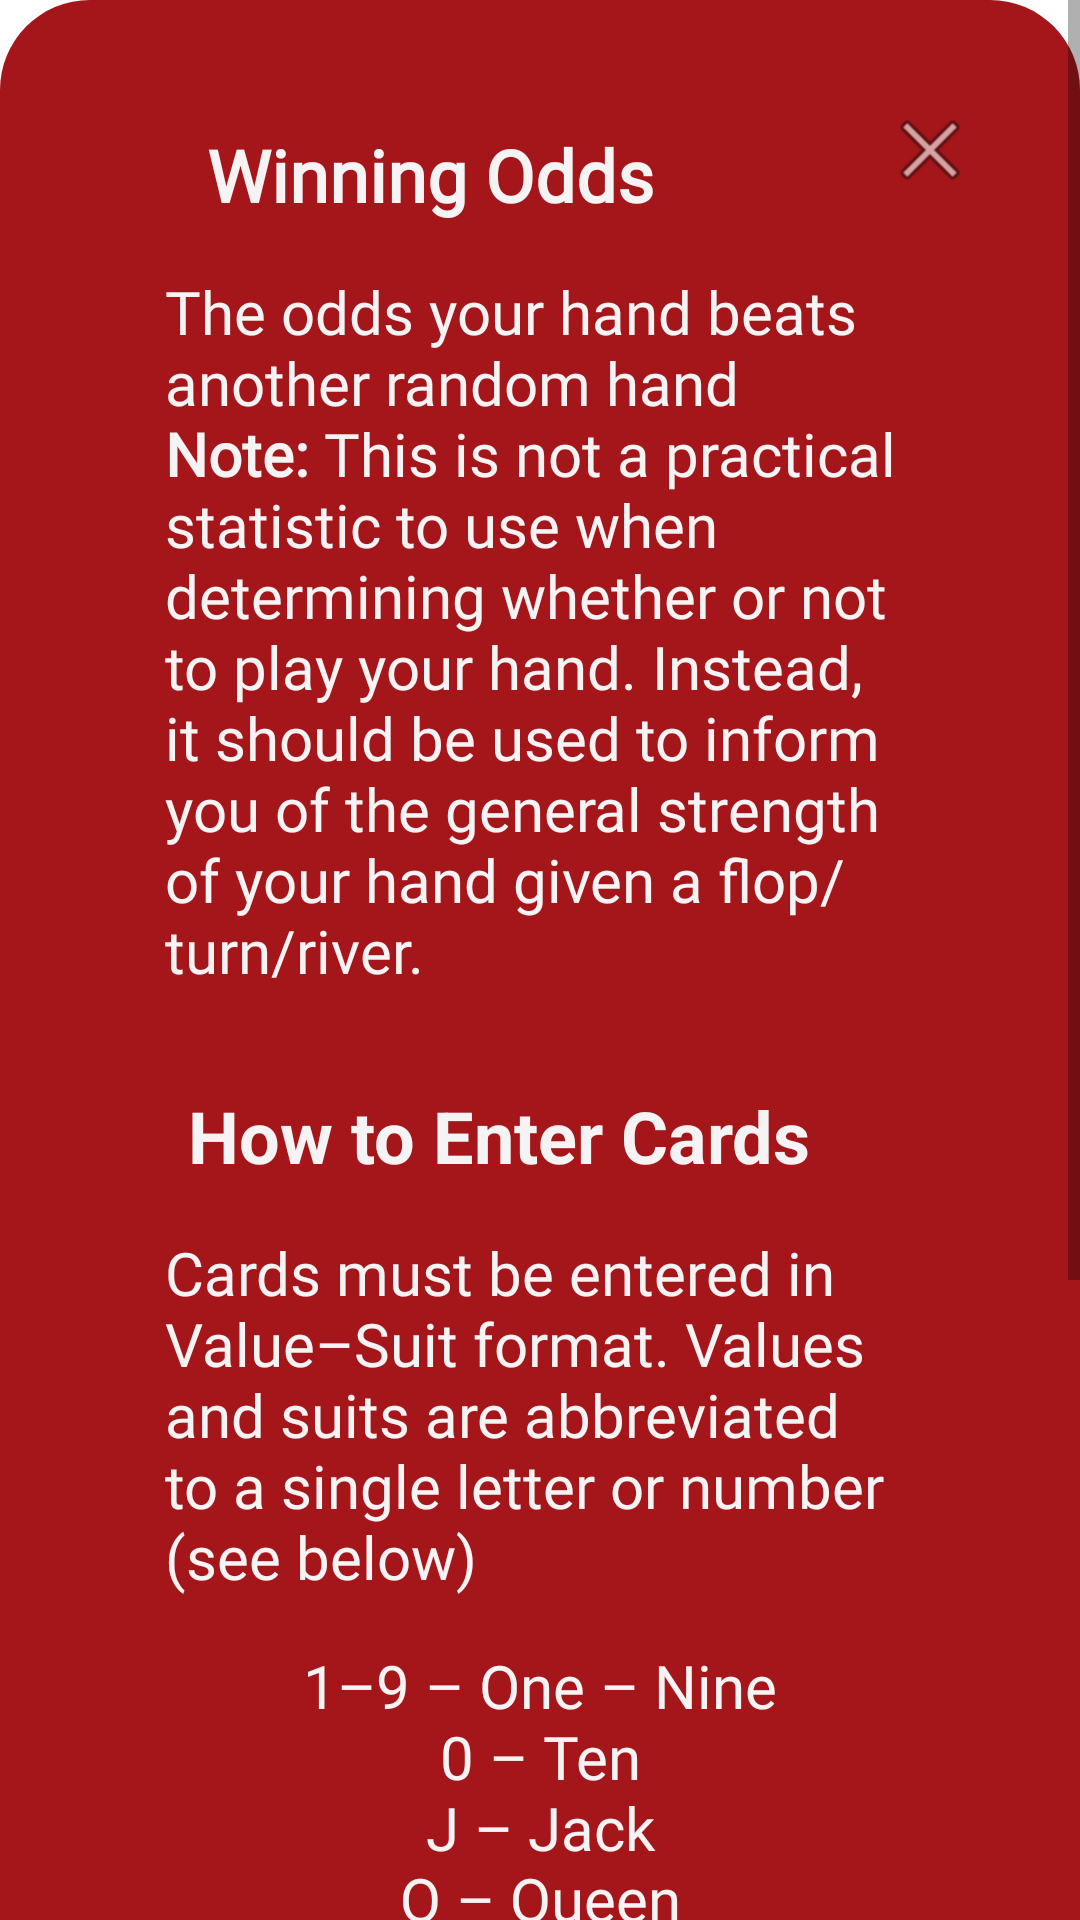

Icons on this 1080px×1920px Android screen, each with its box as (x1, y1, x2, y2):
Press to Close: (900, 120, 960, 180)
